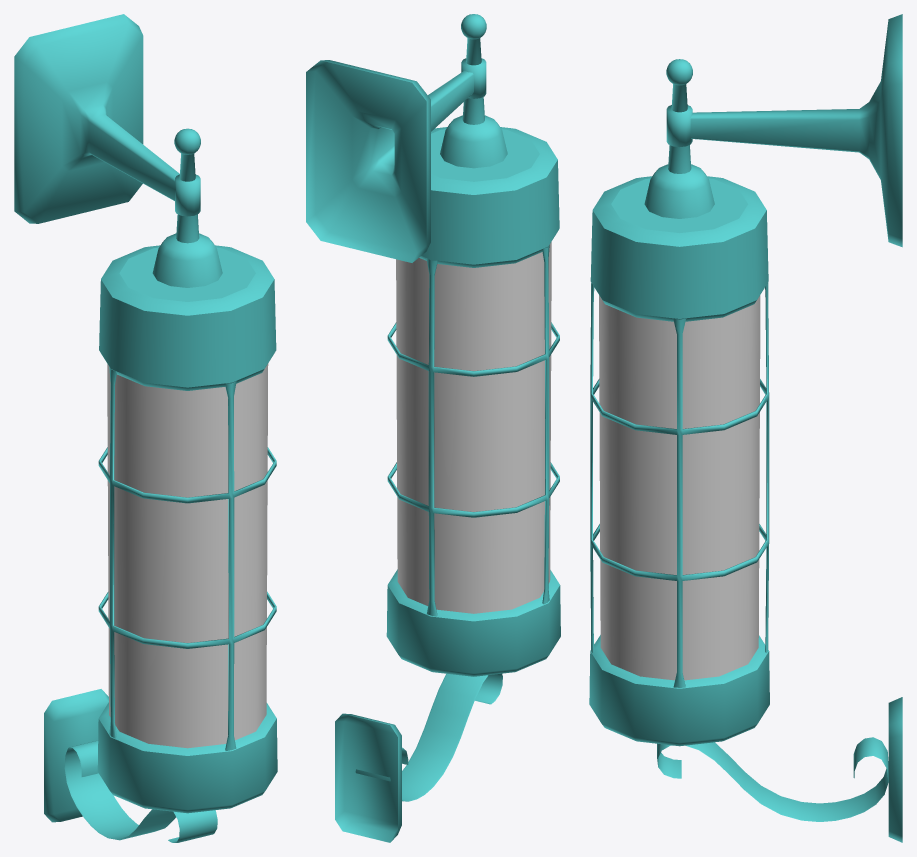
The model's file is wall_sconces01.fbx.
The picture shows the model from 3 angles, left to right: view 1: azimuth 30°, elevation 25°; view 2: azimuth 150°, elevation 25°; view 3: azimuth 270°, elevation 25°; orthographic projection. The views are drawn at different scales.
Parts seen in each view (by area): view 1: WallSconce01; view 2: WallSconce01; view 3: WallSconce01.
Part boxes in pixels (bbox=[...]): WallSconce01: bbox=[14, 14, 277, 842]; WallSconce01: bbox=[306, 14, 560, 842]; WallSconce01: bbox=[589, 14, 902, 842].
Size of the model in its own units: 80.73 by 391 by 140.
